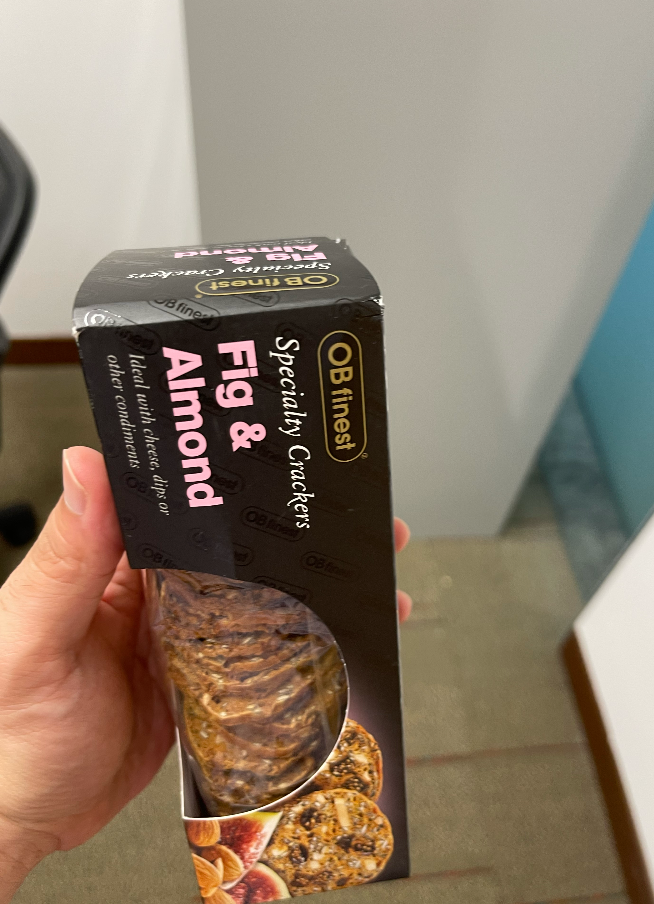crackers_100g-199g: (137, 274, 410, 886)
